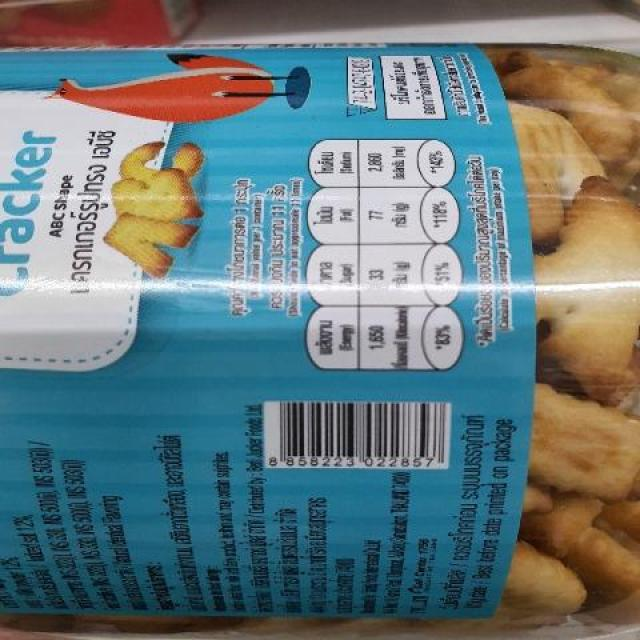Barcode: (263, 400, 452, 471)
